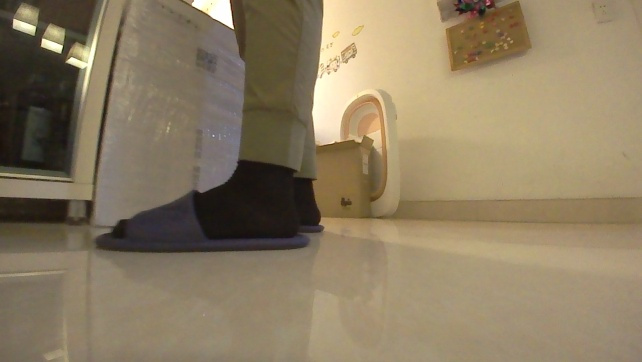slipper: (91, 186, 315, 256)
